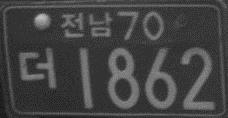0: (141, 10, 165, 41)
1: (76, 44, 95, 110)
2: (179, 46, 216, 112)
6: (143, 46, 176, 110)
7: (116, 9, 139, 40)
8: (106, 45, 140, 111)
더: (16, 45, 56, 90)
전남_O: (60, 11, 112, 39)
